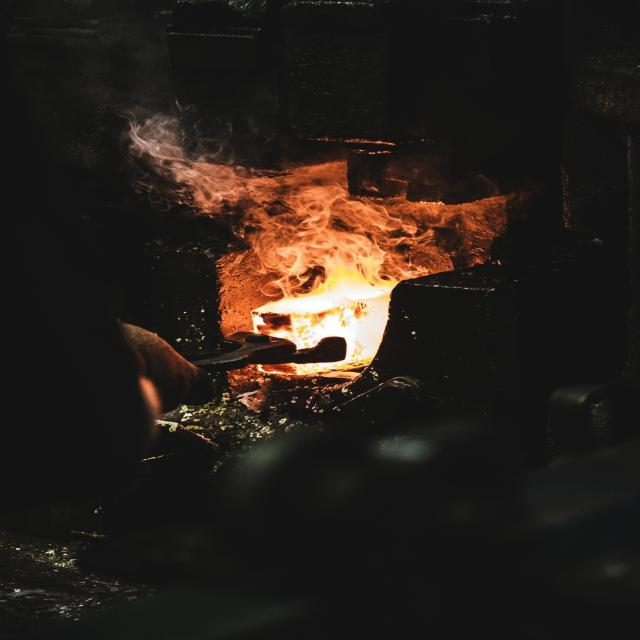Fire: (251, 267, 393, 376)
Smoke: (127, 113, 484, 301)
